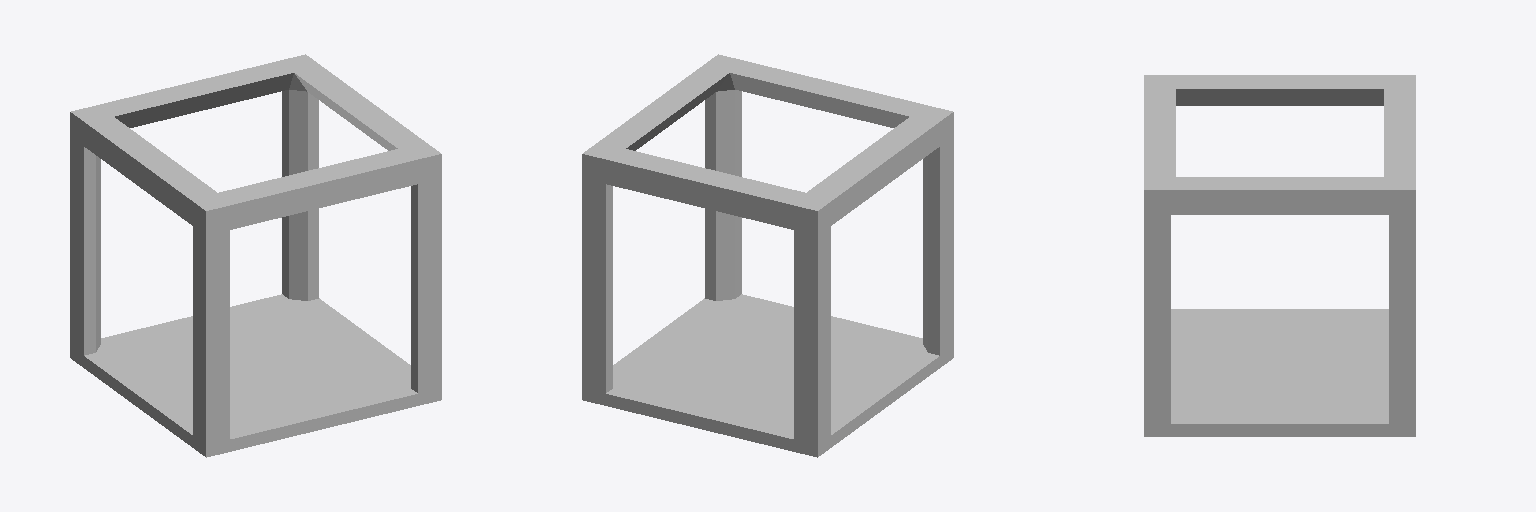
The model's file is L3BoxFrame.obj.
3 views of the same model, side by side, from view 1: azimuth 30°, elevation 25°; view 2: azimuth 150°, elevation 25°; view 3: azimuth 270°, elevation 25° (orthographic).
Visible parts, largest first — view 1: tutTrapFrame2:Mesh1 tutTrapFrame2:initialShadingGroup1 tutTrapFr; view 2: tutTrapFrame2:Mesh1 tutTrapFrame2:initialShadingGroup1 tutTrapFr; view 3: tutTrapFrame2:Mesh1 tutTrapFrame2:initialShadingGroup1 tutTrapFr.
Boxes of the visible parts, x1,y1,x2,y2 form: tutTrapFrame2:Mesh1 tutTrapFrame2:initialShadingGroup1 tutTrapFr: [70, 54, 441, 457]; tutTrapFrame2:Mesh1 tutTrapFrame2:initialShadingGroup1 tutTrapFr: [582, 54, 953, 457]; tutTrapFrame2:Mesh1 tutTrapFrame2:initialShadingGroup1 tutTrapFr: [1144, 75, 1415, 436].
Bounding box in the file's own units: 2 × 2 × 2.